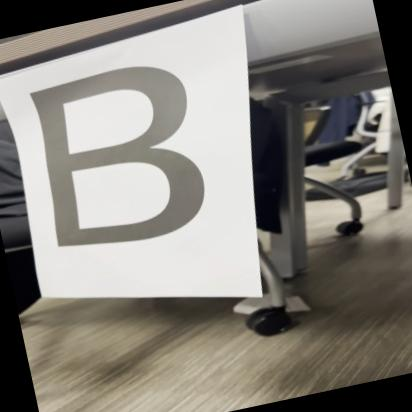seat: (14, 48, 228, 274)
